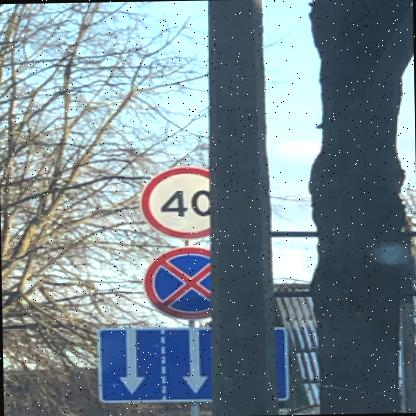speedlimit: (138, 165, 209, 237)
